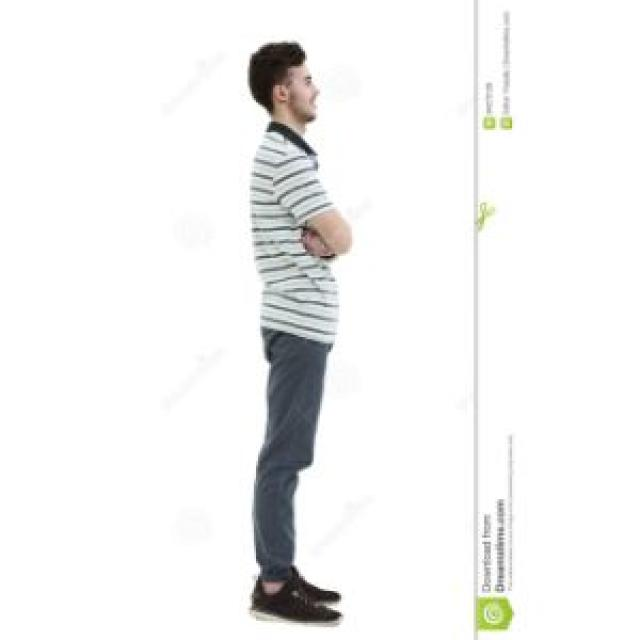adult: (209, 30, 382, 640)
